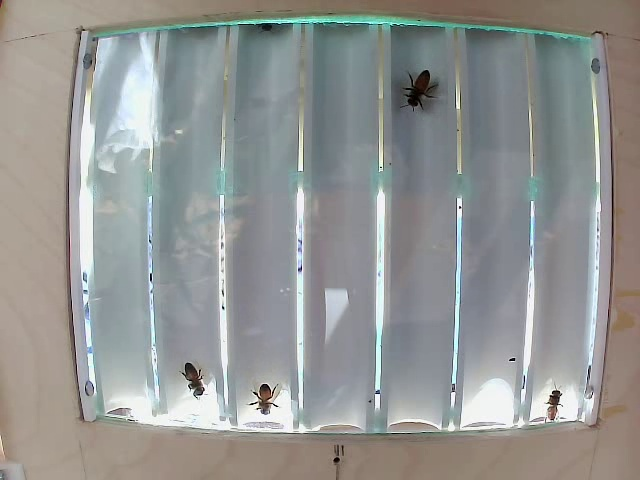bee: (396, 63, 440, 112), (174, 354, 211, 404), (244, 378, 284, 424)
